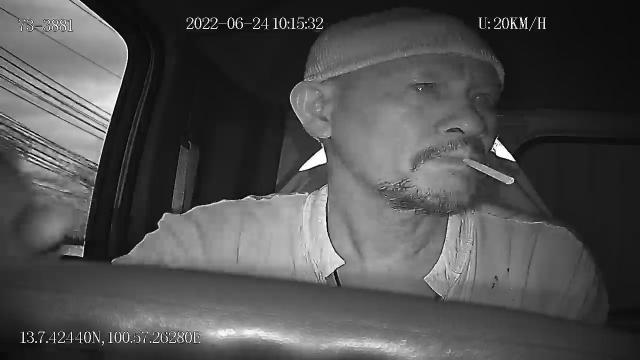SafeDriving: (400, 69, 447, 101)
Smoking: (460, 155, 518, 189)
